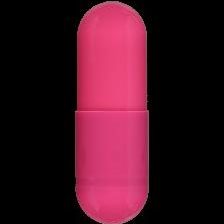0179-0167: (0, 0, 224, 224)
